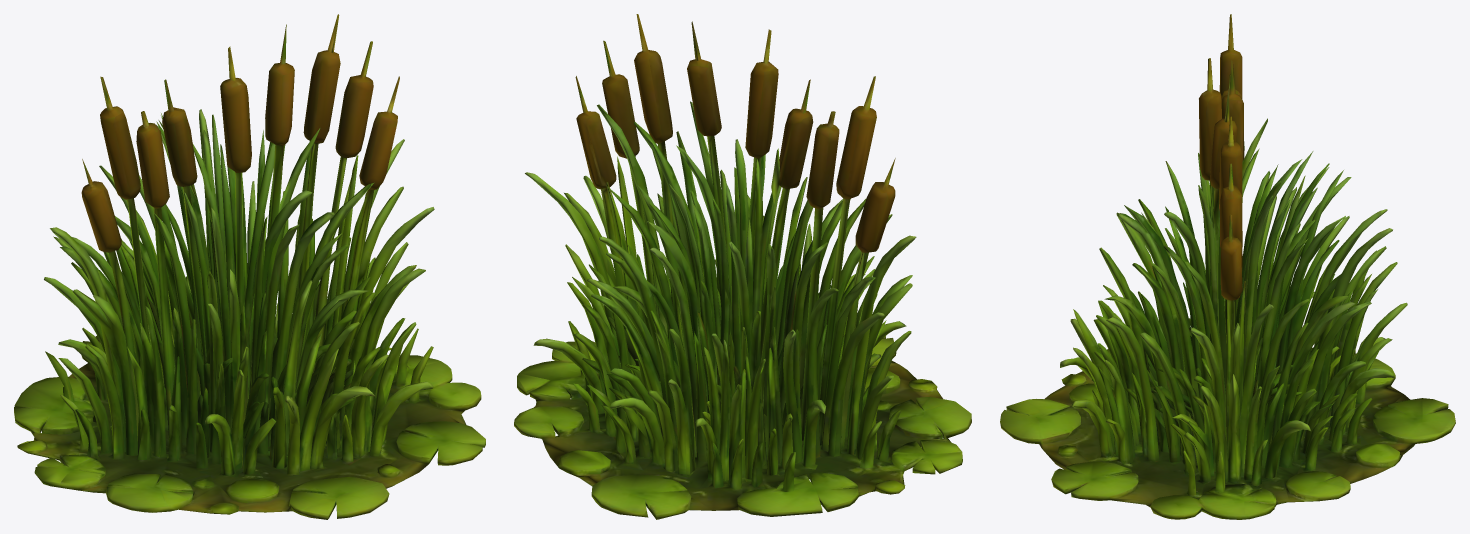
Rendered from cattails1.opt.glb.
The picture shows the model from 3 angles, left to right: view 1: azimuth 30°, elevation 25°; view 2: azimuth 150°, elevation 25°; view 3: azimuth 270°, elevation 25°; orthographic projection. The views are drawn at different scales.
Visible parts, largest first — view 1: node_0; view 2: node_0; view 3: node_0.
Boxes of the visible parts, x1,y1,x2,y2 form: node_0: (14,14,485,519); node_0: (514,14,971,519); node_0: (1000,14,1455,519).
Bounding box in the file's own units: 0.8832 × 0.7835 × 0.9006.
Materials: 1 (1 with a texture image).
